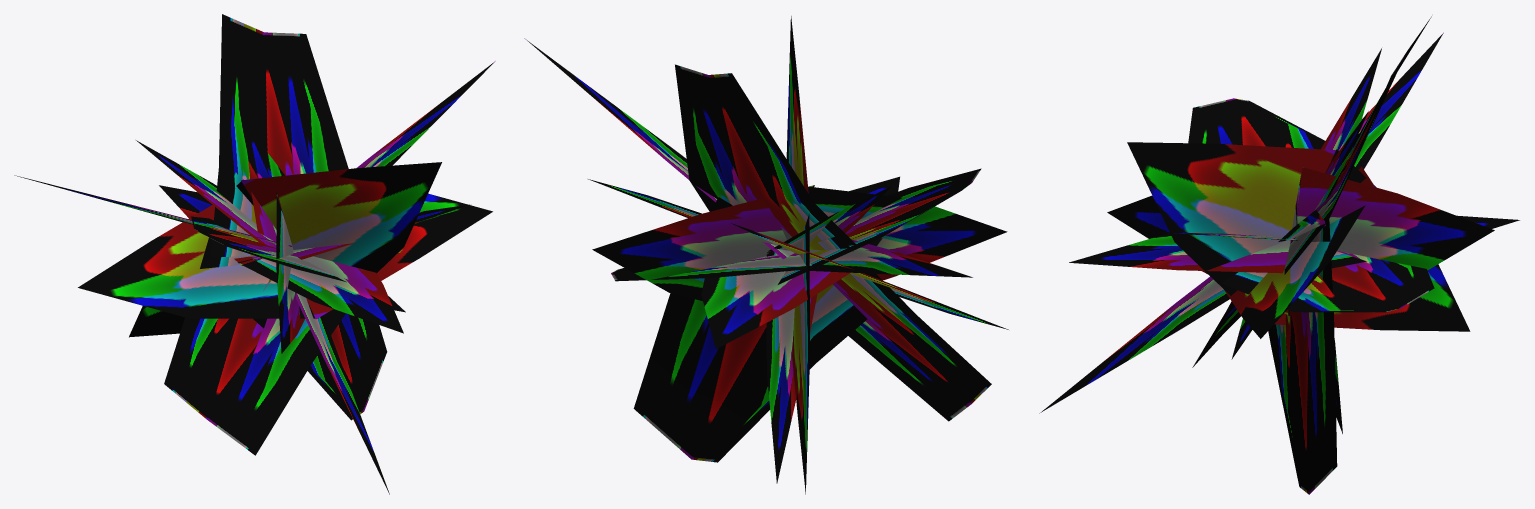
The model's file is FX_hit_001.FBX.
3 views of the same model, side by side, from view 1: azimuth 30°, elevation 25°; view 2: azimuth 150°, elevation 25°; view 3: azimuth 270°, elevation 25° (orthographic). The views are drawn at different scales.
Visible parts, largest first — view 1: FX_hit_001; view 2: FX_hit_001; view 3: FX_hit_001.
Boxes of the visible parts, x1,y1,x2,y2 form: FX_hit_001: (14,14,495,494); FX_hit_001: (524,16,1008,494); FX_hit_001: (1039,16,1519,494).
Bounding box in the file's own units: 185 × 158 × 159.
1 material, 1 textured.
